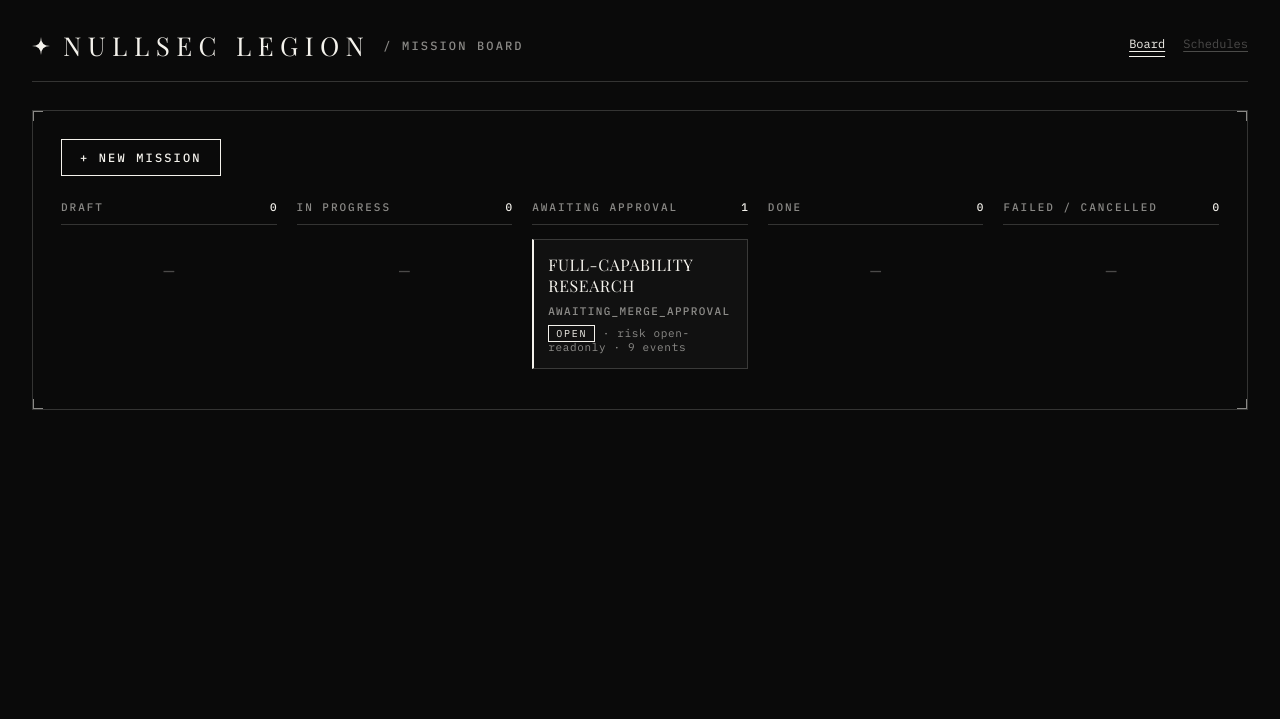
Test case: T92: open-mission board — live tools + workspace tree › shows the /workspace file tree at the gate
Click the button that starts with "Full-capability research". click: (640, 304)
box: [532,239,748,369]
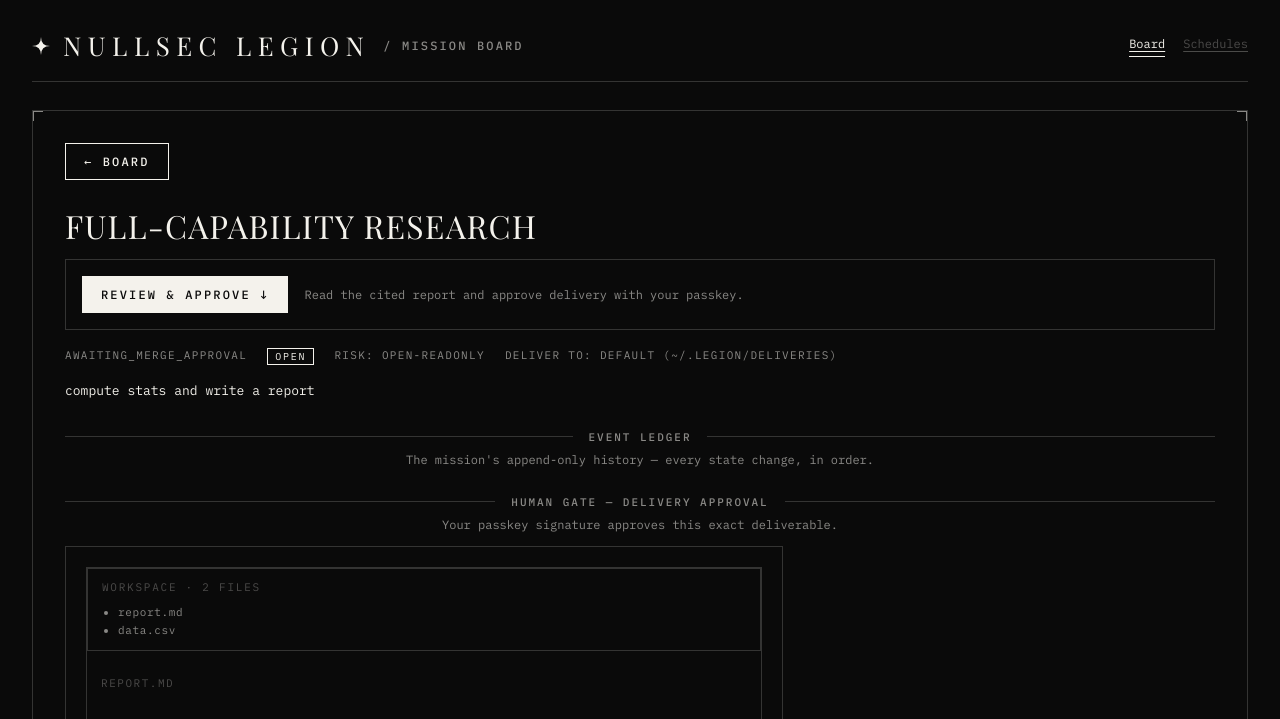
Result: the element with test id "workspace-tree" shows "report.md" at [118,605,183,619]
Result: the element with test id "workspace-tree" shows "data.csv" at [118,623,176,637]
Result: the element with test id "workspace-tree" shows "workspace · 2 files" at [87,568,761,651]
